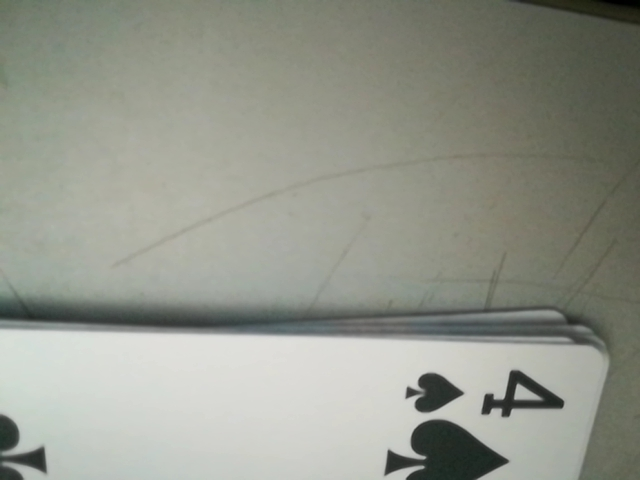ht 4: (399, 359, 568, 424)
